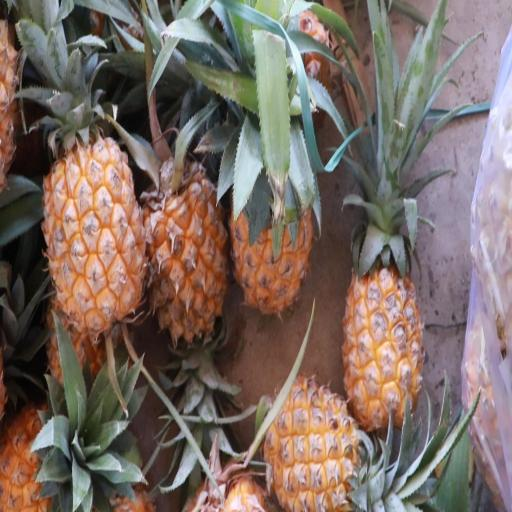Pineapple - v8 v1: (37, 111, 149, 344), (341, 202, 428, 444), (138, 144, 232, 346), (230, 123, 316, 326), (256, 371, 370, 512)
